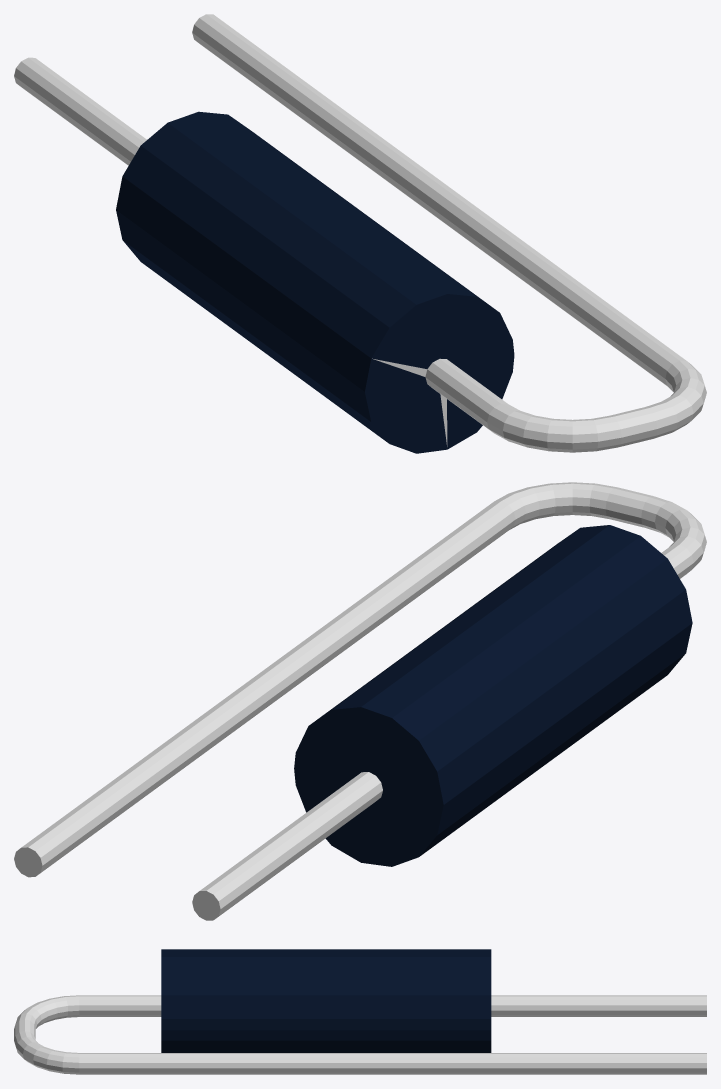
File: bow.obj
3 renders of one model, top to bottom at view 1: azimuth 30°, elevation 25°; view 2: azimuth 150°, elevation 25°; view 3: azimuth 270°, elevation 25°, orthographic. The views are drawn at different scales.
Visible parts, largest first — view 1: Object.1; view 2: Object.1; view 3: Object.1.
Boxes of the visible parts, box(x1,y1,x2,y2) form: Object.1: box(14, 14, 706, 453); Object.1: box(14, 482, 706, 920); Object.1: box(14, 949, 706, 1074).
Bounding box in the file's own units: 7.5 × 4.18 × 25.4.
